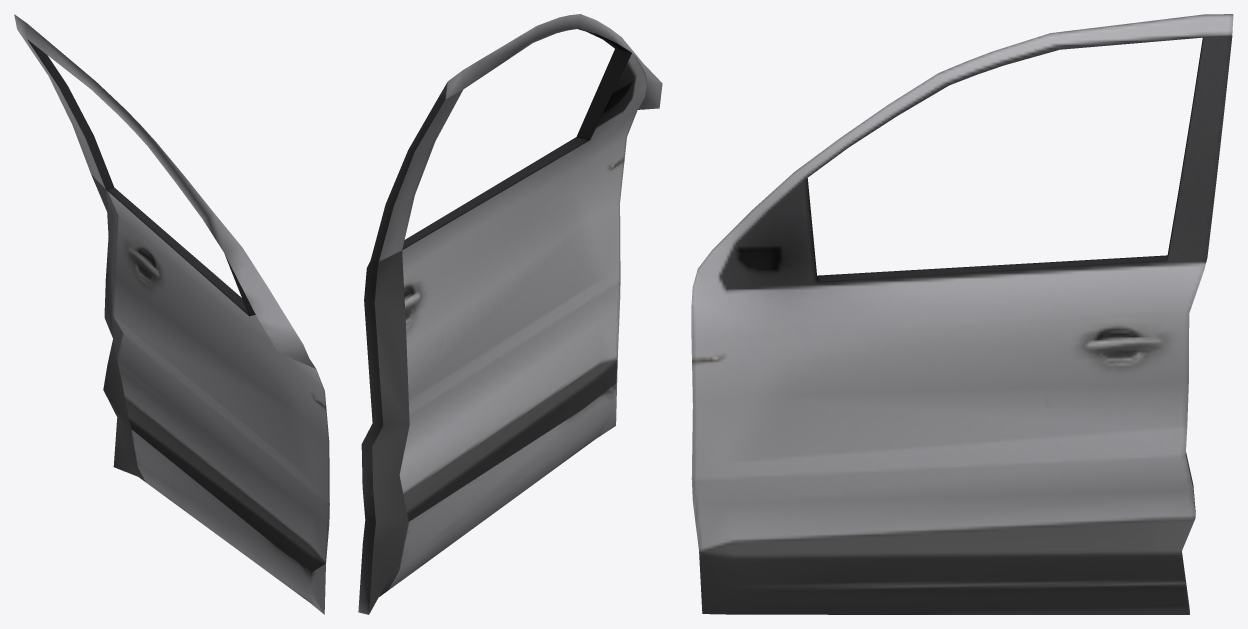
3 renders of one model, left to right at view 1: azimuth 30°, elevation 25°; view 2: azimuth 150°, elevation 25°; view 3: azimuth 270°, elevation 25°, orthographic. The views are drawn at different scales.
Parts seen in each view (by area): view 1: 对象017; view 2: 对象017; view 3: 对象017.
Part boxes in pixels (x1=…): 对象017: x1=14, y1=14, x2=329, y2=614; 对象017: x1=358, y1=14, x2=662, y2=614; 对象017: x1=691, y1=14, x2=1233, y2=614.
Bounding box in the file's own units: 119 × 583 × 522.
